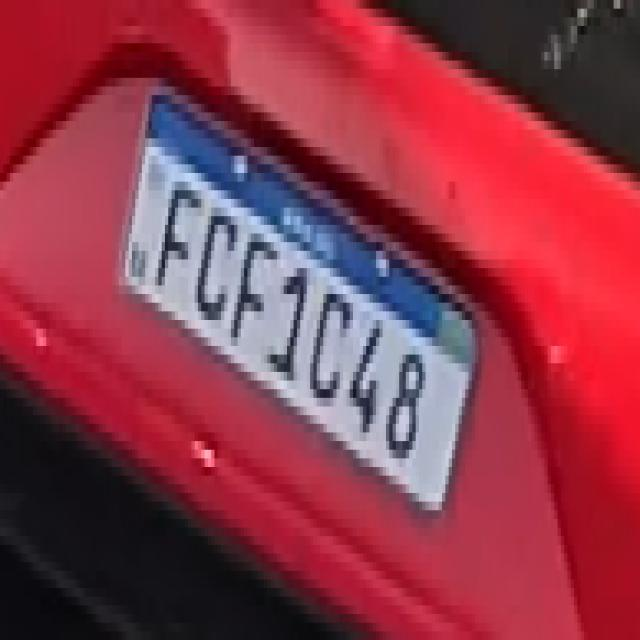Placa_mercosul_carro: (119, 88, 482, 516)
